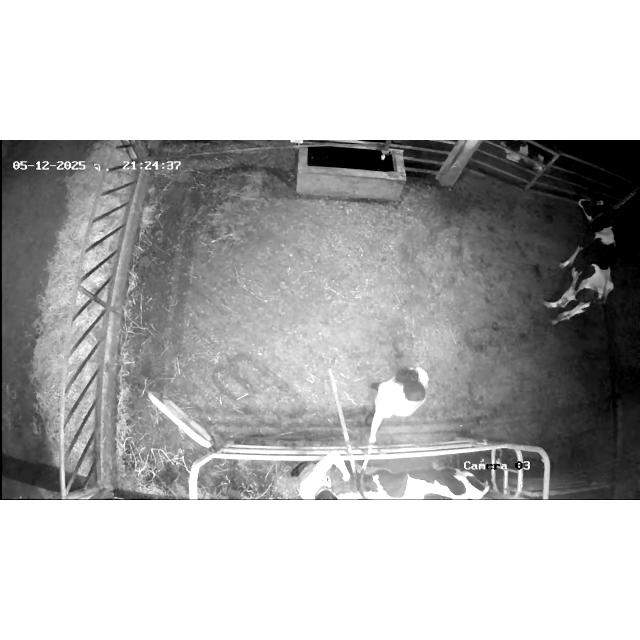stand: (526, 184, 624, 344)
